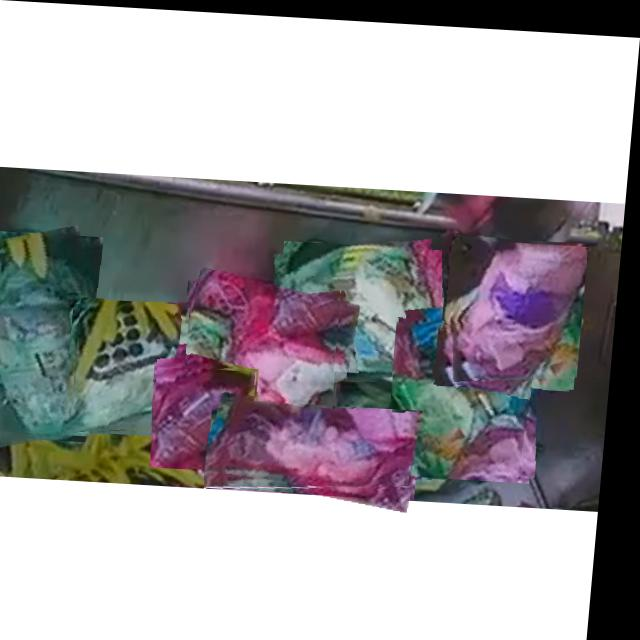general_trashbag: (398, 322, 540, 472), (289, 237, 446, 371), (0, 242, 102, 433), (78, 299, 191, 431)
other_trashbag: (200, 268, 342, 422), (457, 238, 592, 375), (214, 398, 426, 485), (162, 366, 262, 465)
